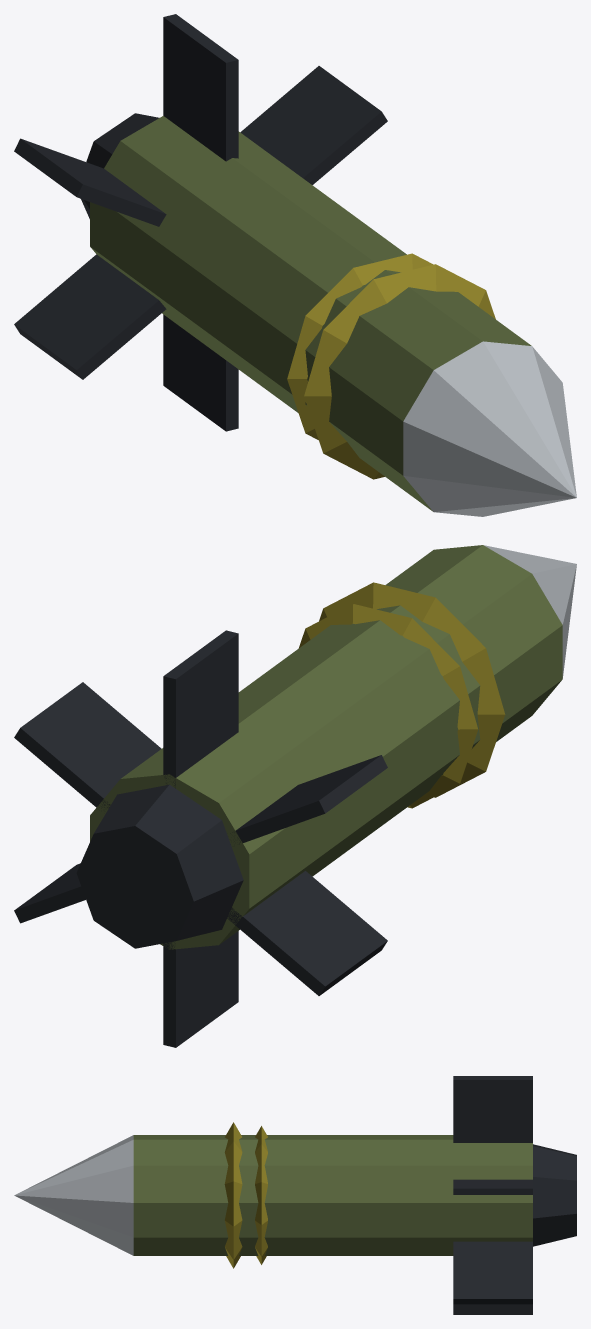
File: torpedo-fragmentation.glb
3 renders of one model, top to bottom at view 1: azimuth 30°, elevation 25°; view 2: azimuth 150°, elevation 25°; view 3: azimuth 270°, elevation 25°, orthographic. The views are drawn at different scales.
Visible parts, largest first — view 1: m; view 2: m; view 3: m.
Boxes of the visible parts, x1=… form: m: x1=14, y1=14, x2=576, y2=516; m: x1=14, y1=545, x2=576, y2=1047; m: x1=14, y1=1076, x2=576, y2=1314.
Bounding box in the file's own units: 0.1119 × 0.1266 × 0.275.
